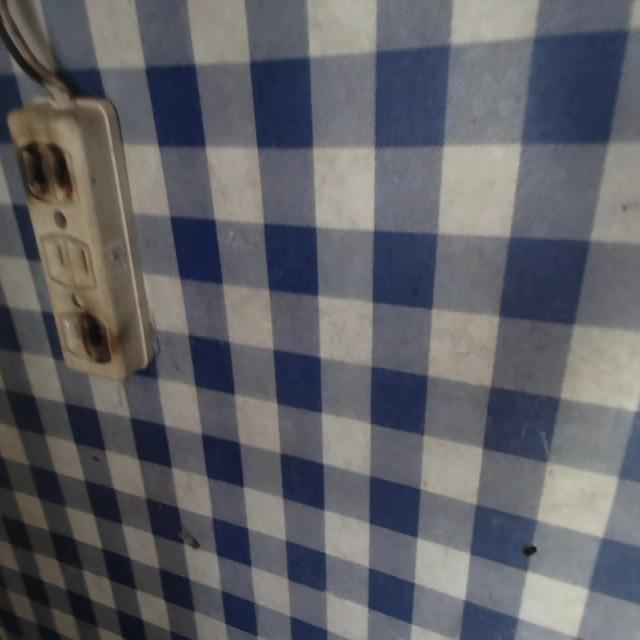-: (11, 137, 81, 207), (75, 309, 113, 364)
